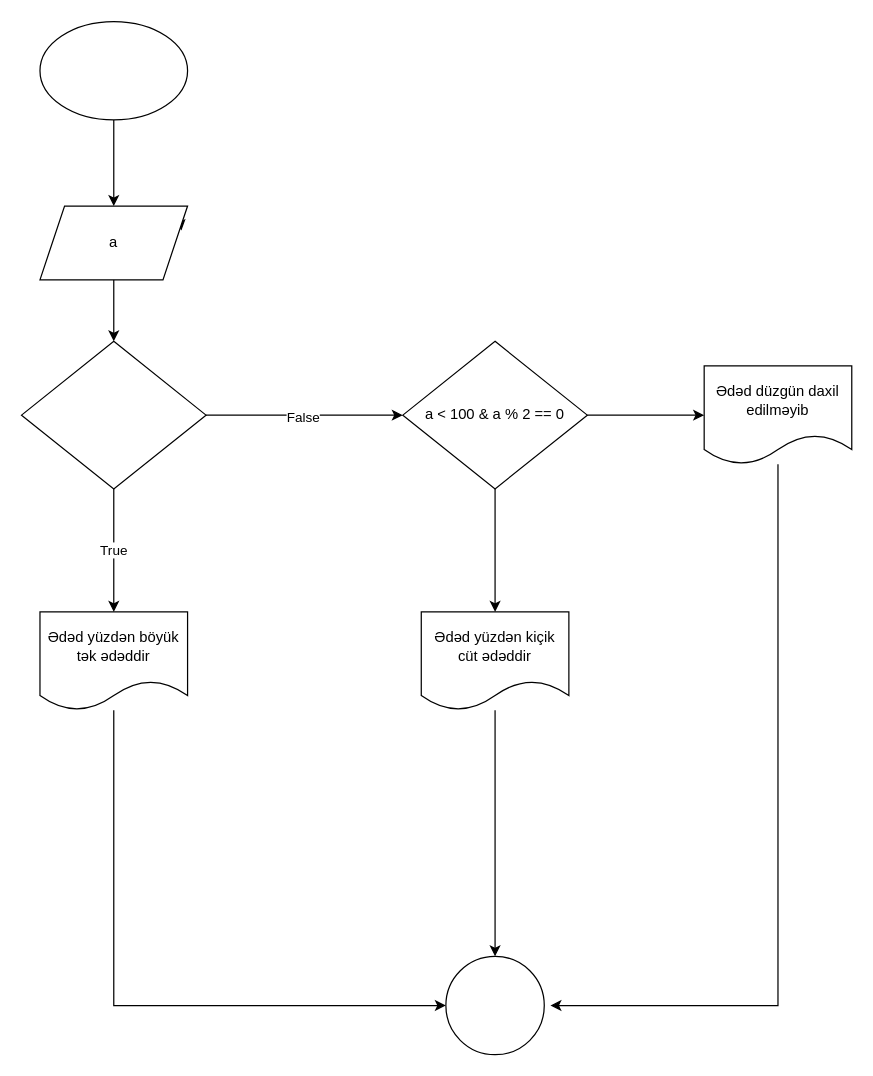
The diagram is 873 pixels wide and 1076 high, and some of its shapes have lost their labels. Each missing label, with the box of its shape:
a > 100 & a % 2 != 0: (20, 340, 206, 489)
End: (445, 955, 544, 1055)
Start: (39, 20, 188, 120)
